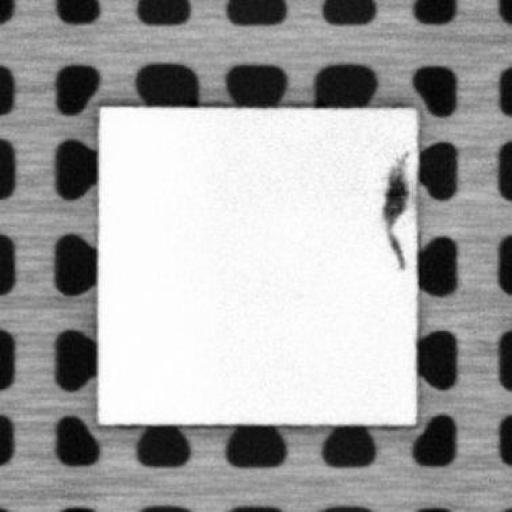DIE_INK: (376, 147, 410, 270)
